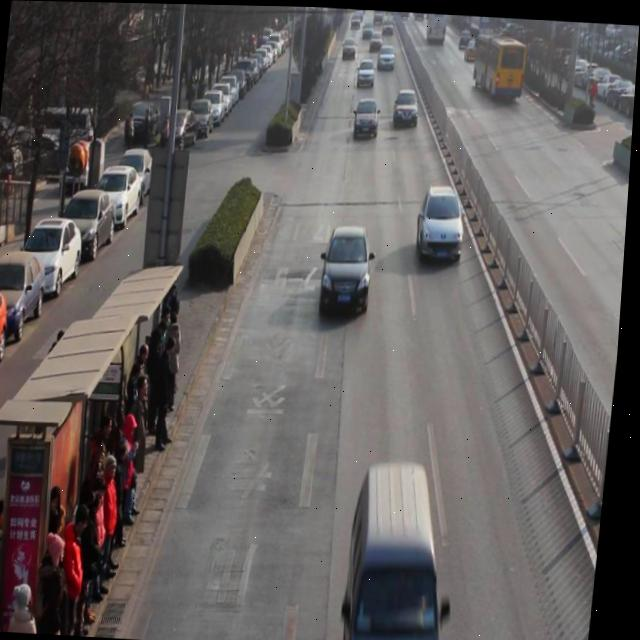car: (323, 223, 379, 318), (417, 182, 471, 266), (354, 96, 382, 140), (394, 86, 422, 129), (357, 58, 377, 88), (377, 43, 397, 71)
truck: (346, 460, 465, 640)
van: (469, 28, 526, 101)
